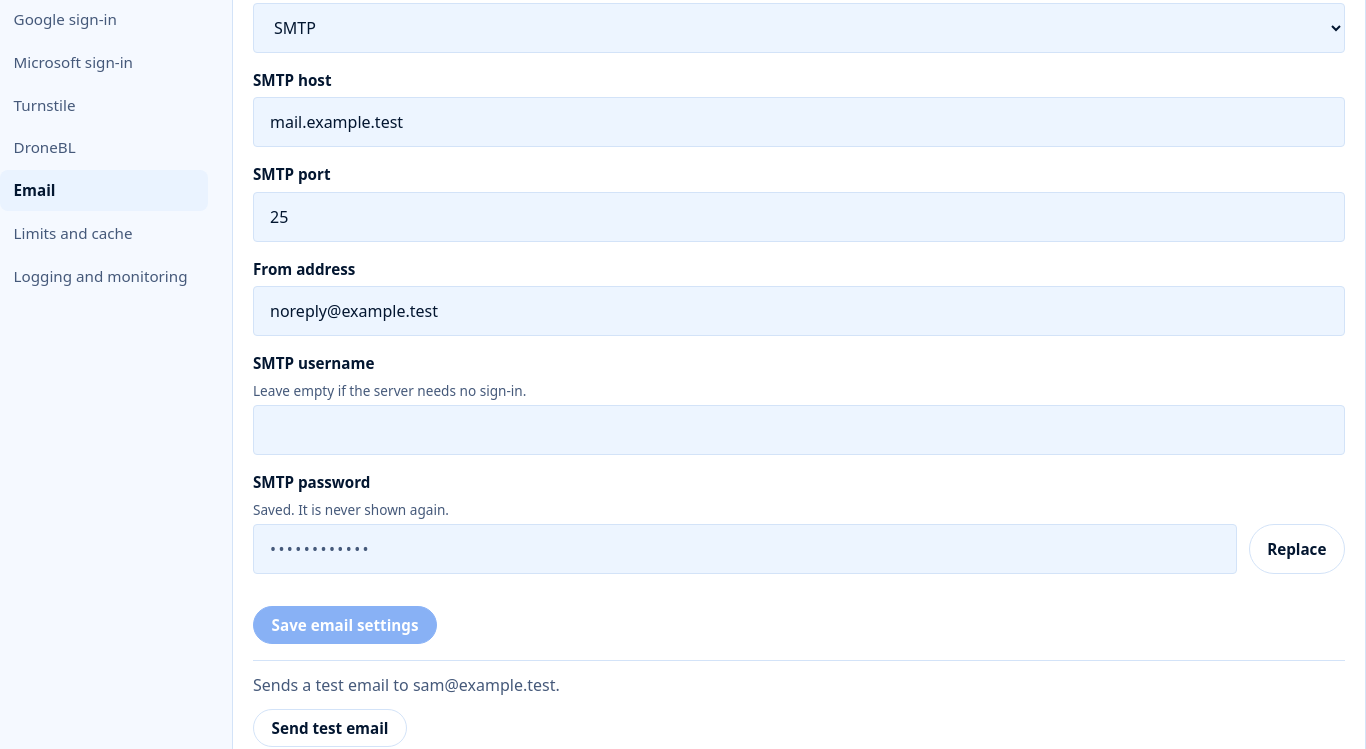
Scenario: AdminSettingsPage › keeps a saved secret when its replacement is abandoned
The width and height of the screenshot is (1366, 749).
(page scrolled)
Click the button with aria-label "Replace SMTP password". click: (1297, 549)
box: [1249, 524, 1345, 574]
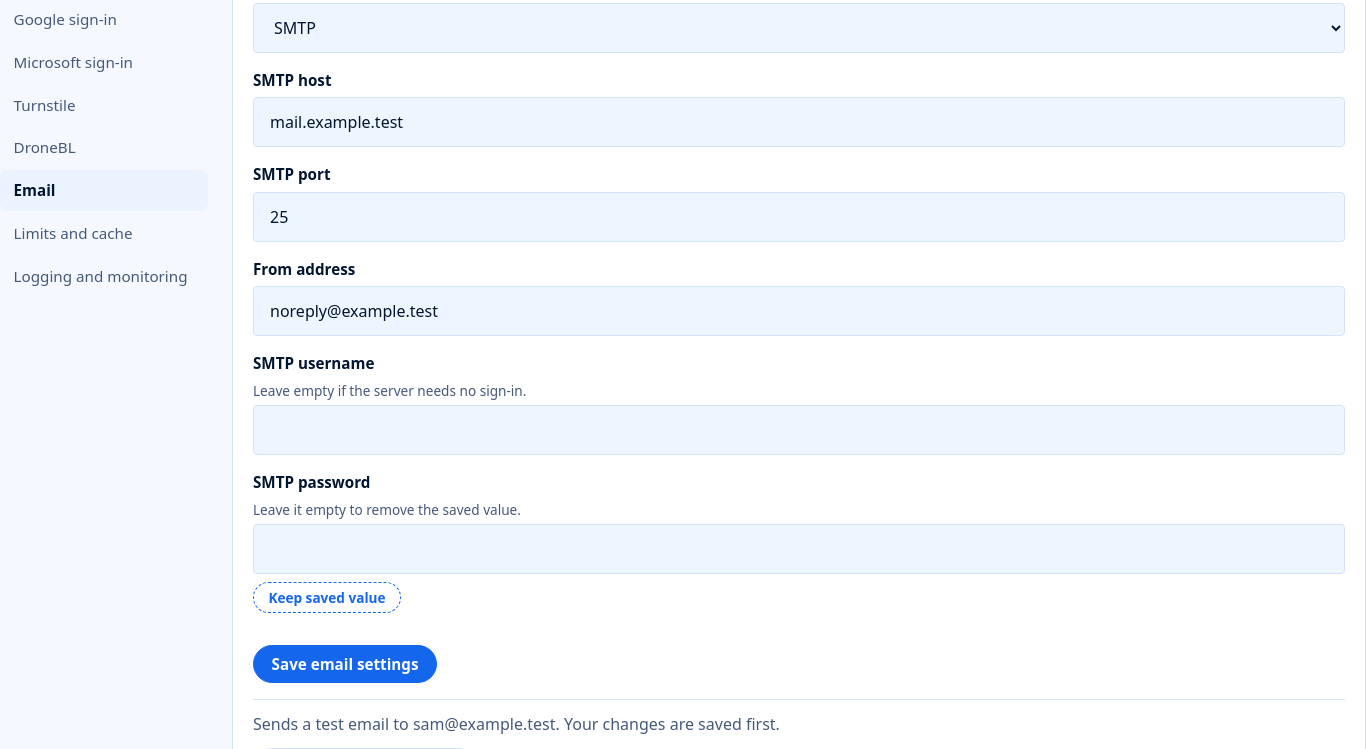
Type "oops" into the password field labelled "SMTP password". click: (799, 549)
box: [253, 524, 1345, 574]
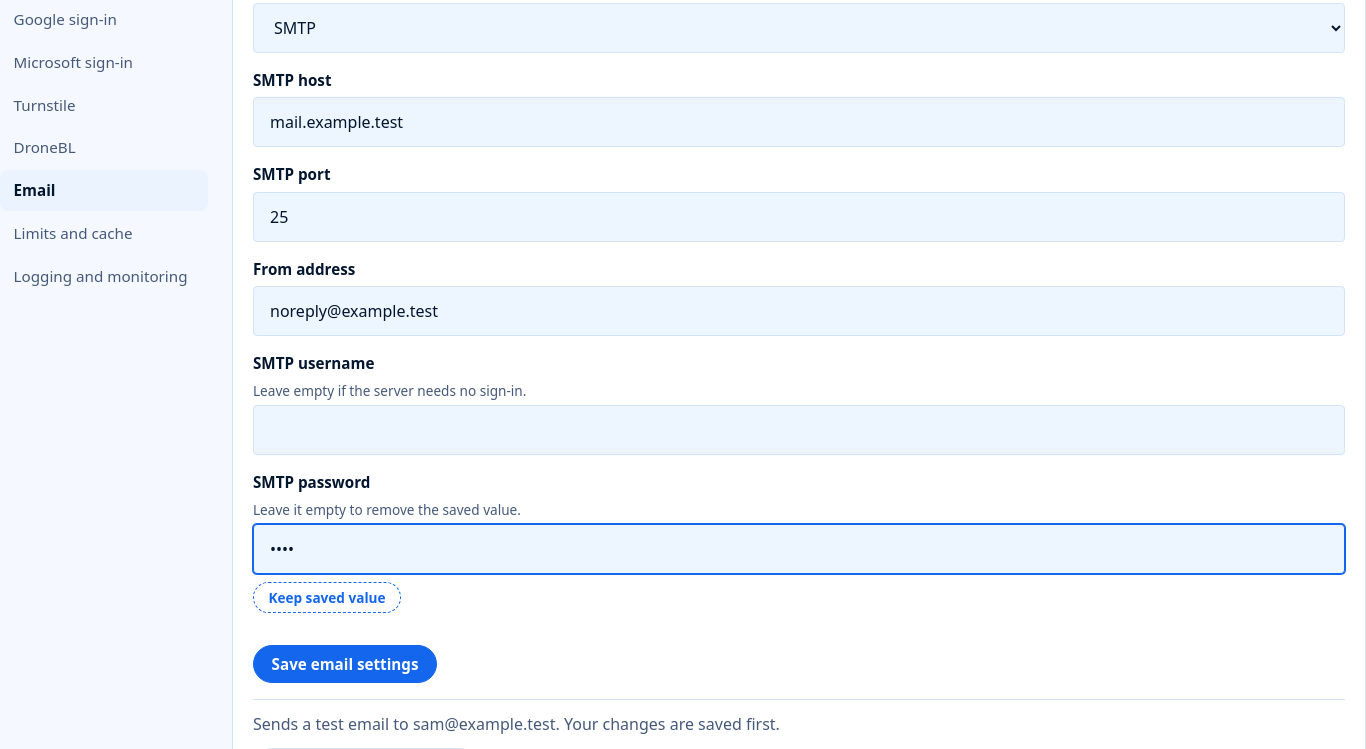
Click the button with aria-label "Keep saved value for SMTP password". click: (327, 598)
box: [253, 582, 401, 613]
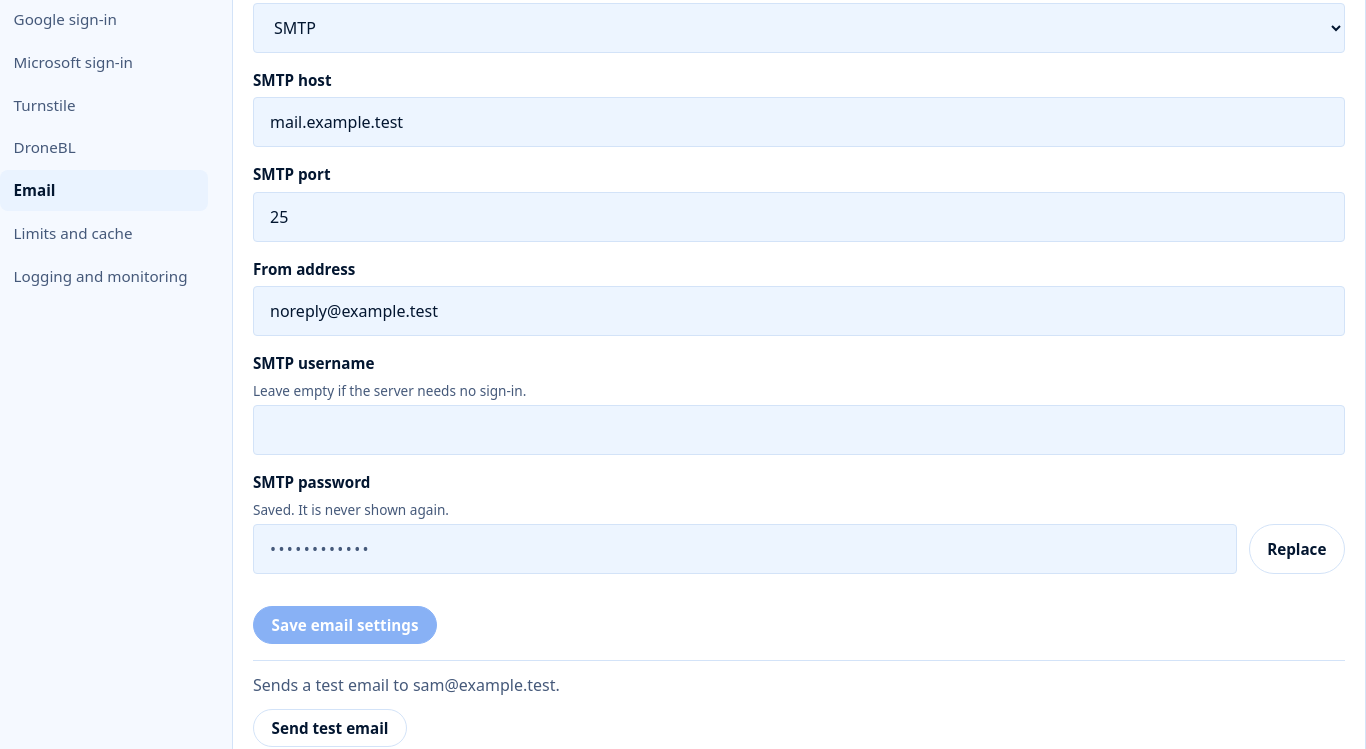
Result: the button with aria-label "Replace SMTP password" is shown at [1249, 524, 1345, 574]
Result: the button "Save email settings" is disabled at [253, 606, 437, 644]
